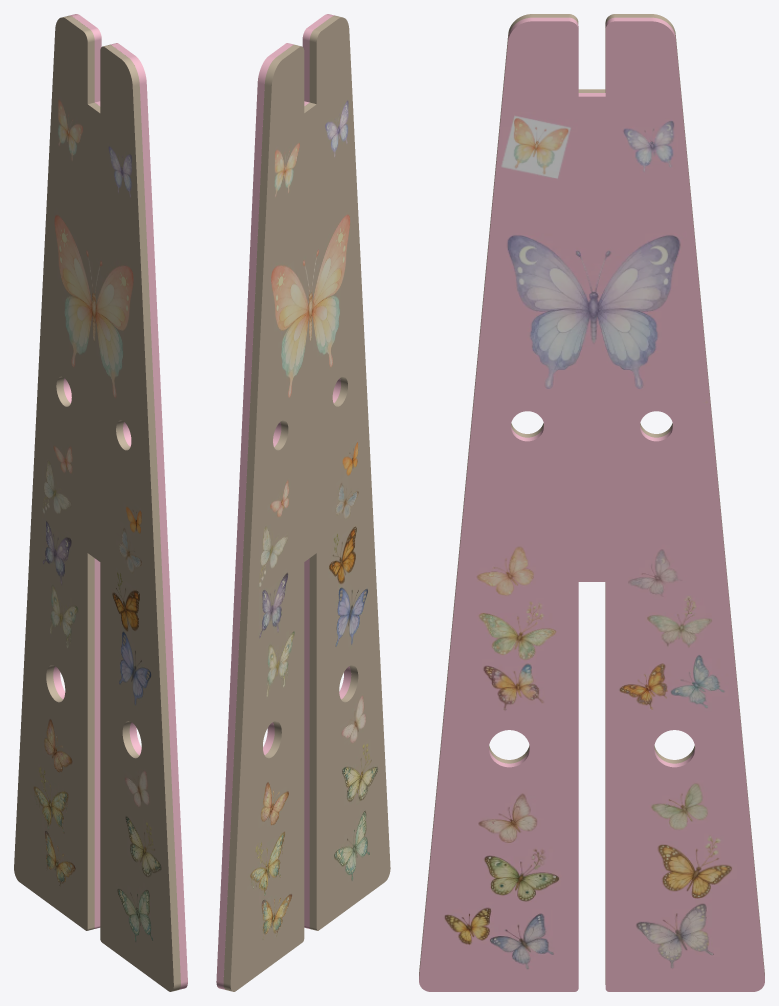
3 renders of one model, left to right at view 1: azimuth 30°, elevation 25°; view 2: azimuth 150°, elevation 25°; view 3: azimuth 270°, elevation 25°, orthographic. The views are drawn at different scales.
Visible parts, largest first — view 1: p006; view 2: p006; view 3: p006.
Part boxes in pixels (box(x1,y1,x2,y2)): p006: box(14, 14, 187, 991); p006: box(216, 14, 390, 991); p006: box(419, 14, 764, 991).
Size of the model in its own units: 18 by 1095 by 354.
4 materials, 2 textured.
